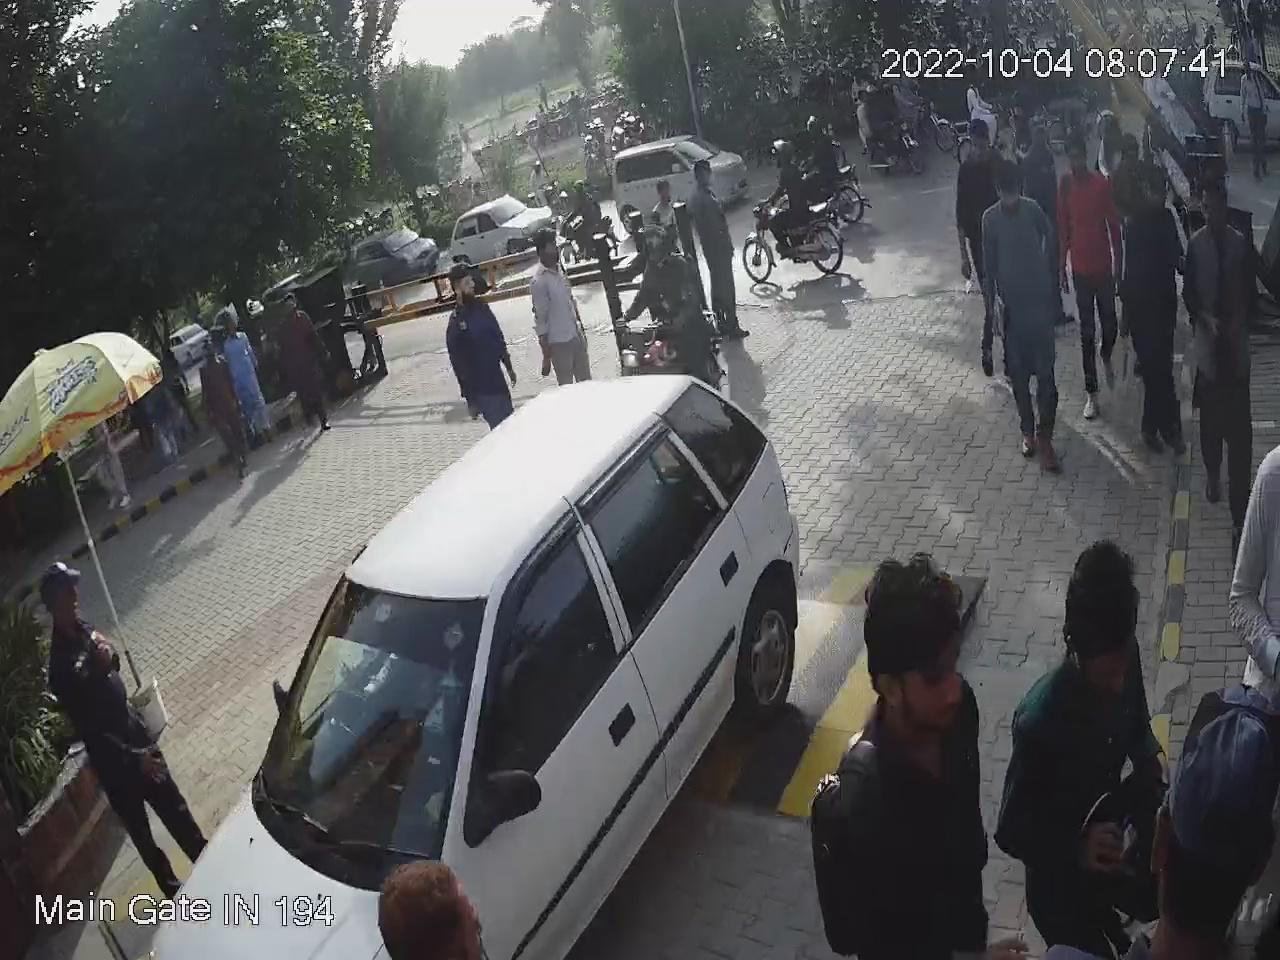windshield: (253, 575, 491, 860)
